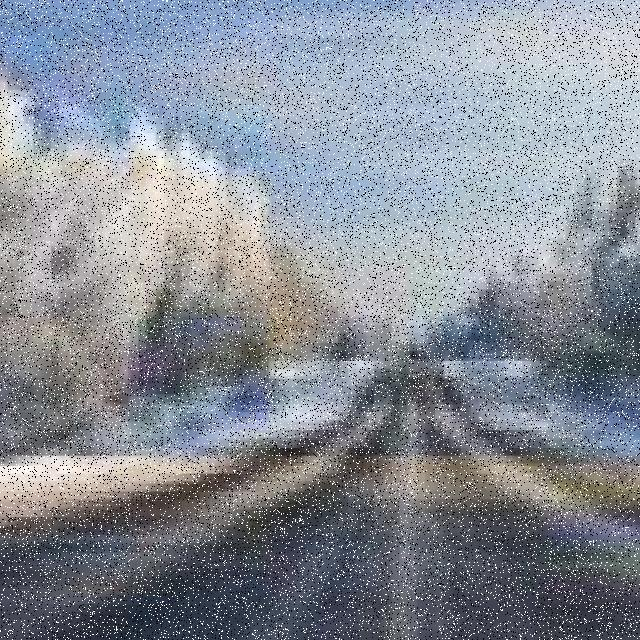ice-road: (0, 354, 640, 640)
